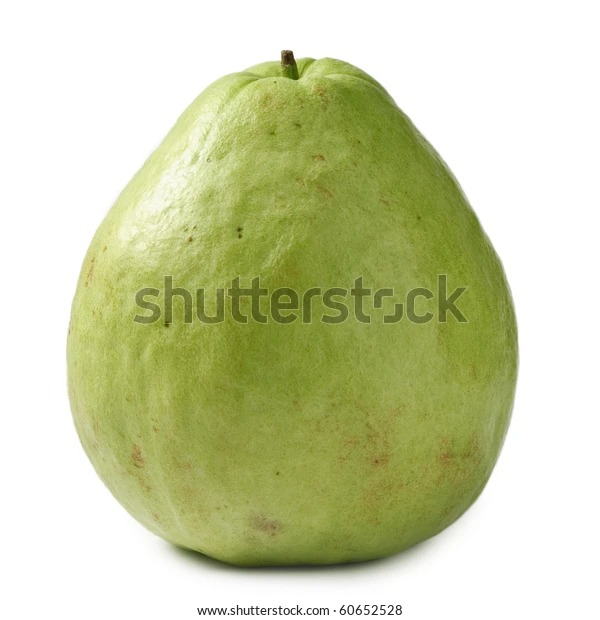guava: (19, 9, 557, 527)
